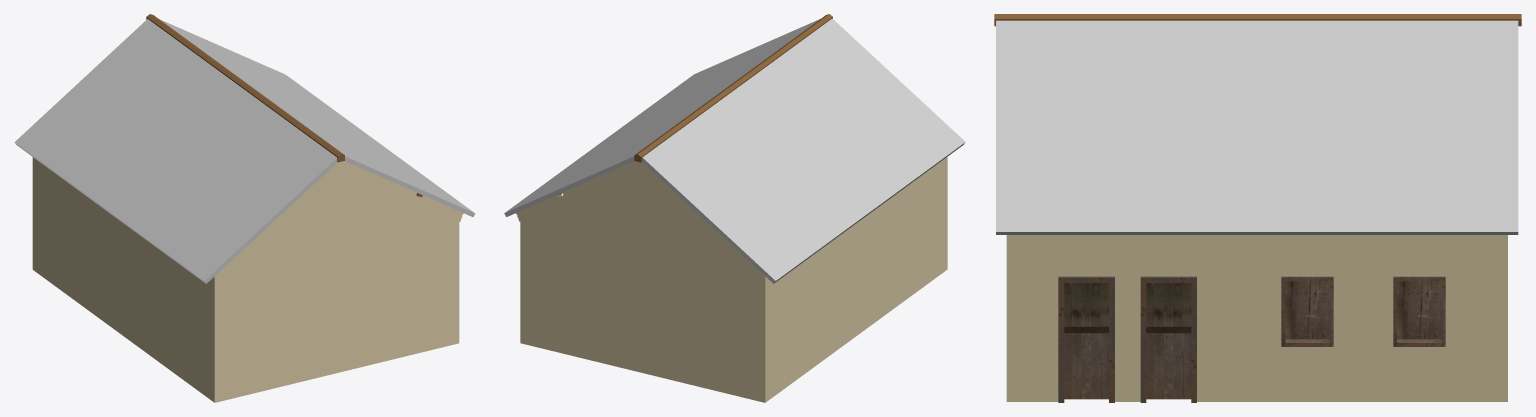
The model's file is 13_casa_LOD0fbx.fbx.
The picture shows the model from 3 angles, left to right: view 1: azimuth 30°, elevation 25°; view 2: azimuth 150°, elevation 25°; view 3: azimuth 270°, elevation 25°; orthographic projection. The views are drawn at different scales.
Parts seen in each view (by area): view 1: 11_casa-LOD0; view 2: 11_casa-LOD0; view 3: 11_casa-LOD0.
Part boxes in pixels (bbox=[...]): 11_casa-LOD0: bbox=[14, 14, 475, 402]; 11_casa-LOD0: bbox=[504, 14, 965, 402]; 11_casa-LOD0: bbox=[994, 14, 1521, 402].
Size of the model in its own units: 629 by 492 by 769.
